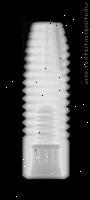DENTSPLY: (22, 21, 70, 179)
